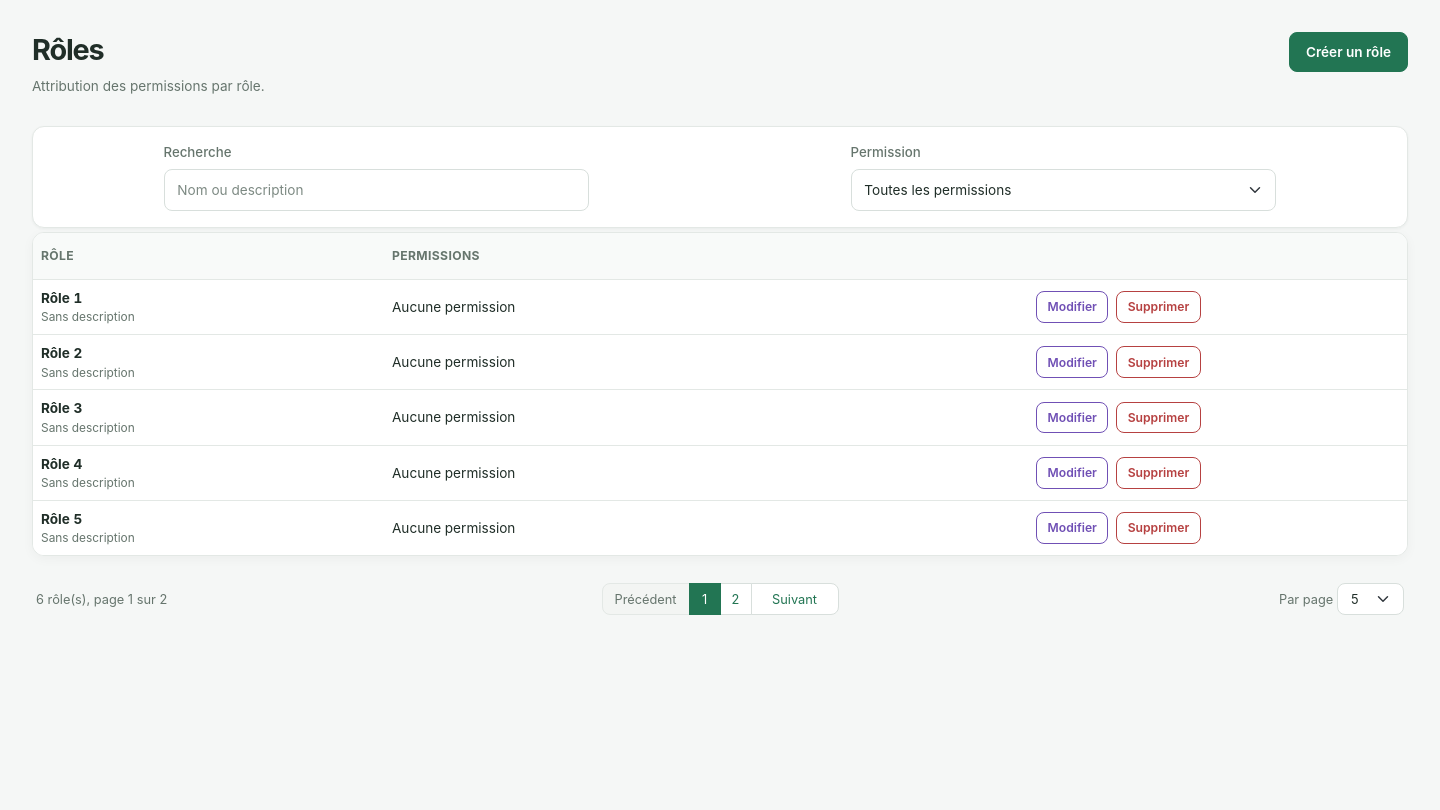
Test: administrator table pagination › paginates roles at five items by default
Expected: the text "Rôle 5" is shown, [41,511,82,527]
Expected: the text "Rôle 6" is not shown
Select "25" in the dropdown named "Nombre d’éléments par page" at (1371, 599), box [1337,583,1404,615]
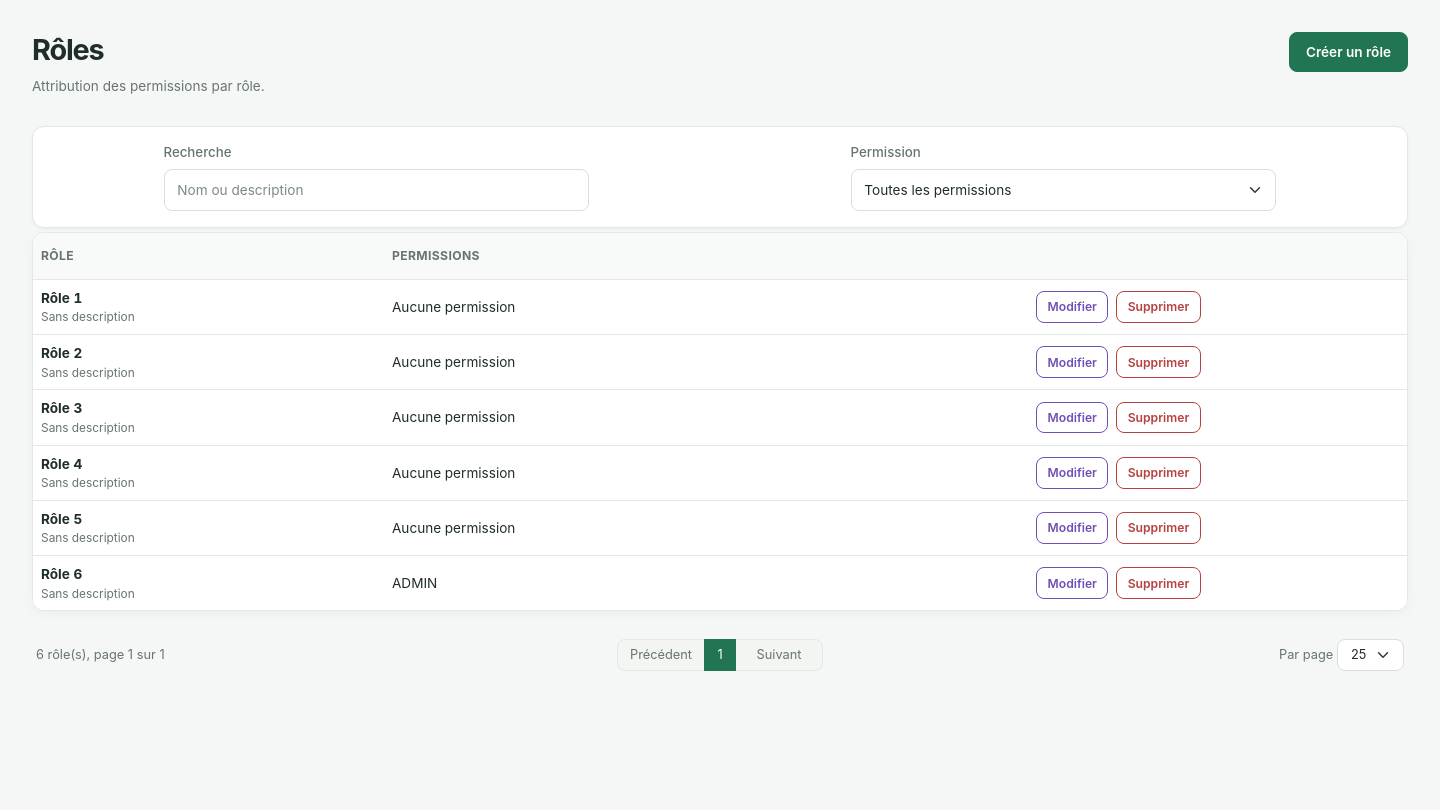
Now the text "Rôle 6" is shown, box [41,566,82,582]
